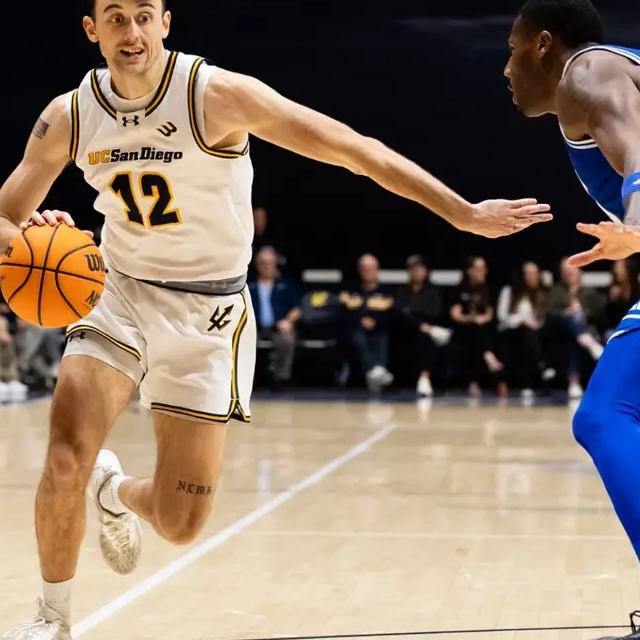basketball: (0, 220, 106, 327)
